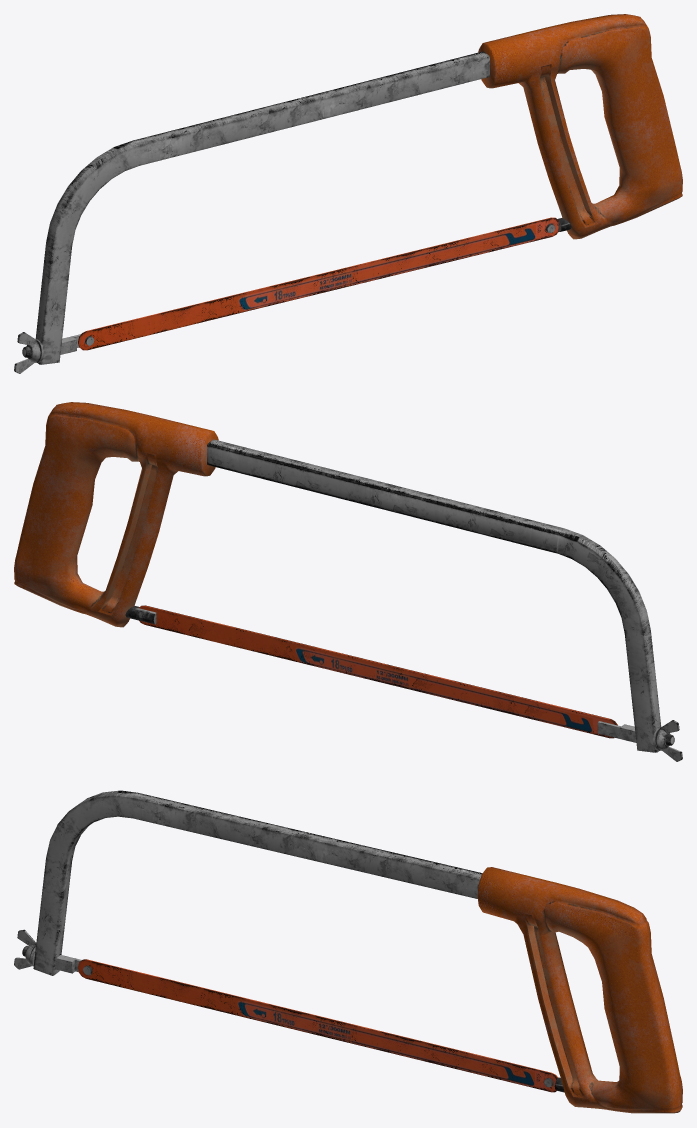
Rendered from Hacksaw01.FBX.
3 renders of one model, top to bottom at view 1: azimuth 30°, elevation 25°; view 2: azimuth 150°, elevation 25°; view 3: azimuth 330°, elevation 25°, orthographic.
Parts seen in each view (by area): view 1: Hacksaw01_LOD0; view 2: Hacksaw01_LOD0; view 3: Hacksaw01_LOD0.
Boxes of the visible parts, x1,y1,x2,y2 form: Hacksaw01_LOD0: (14,14,682,373); Hacksaw01_LOD0: (14,402,682,761); Hacksaw01_LOD0: (14,790,682,1113).
Size of what is drawn, in the model's own units: 49.13 by 15.31 by 2.4.
